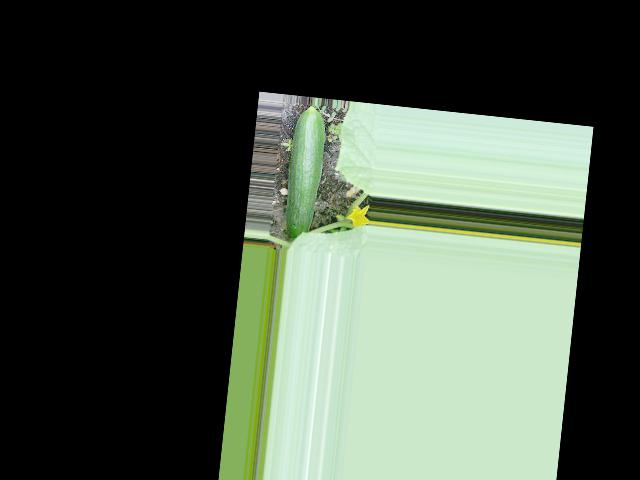cucumber: (281, 104, 328, 240)
